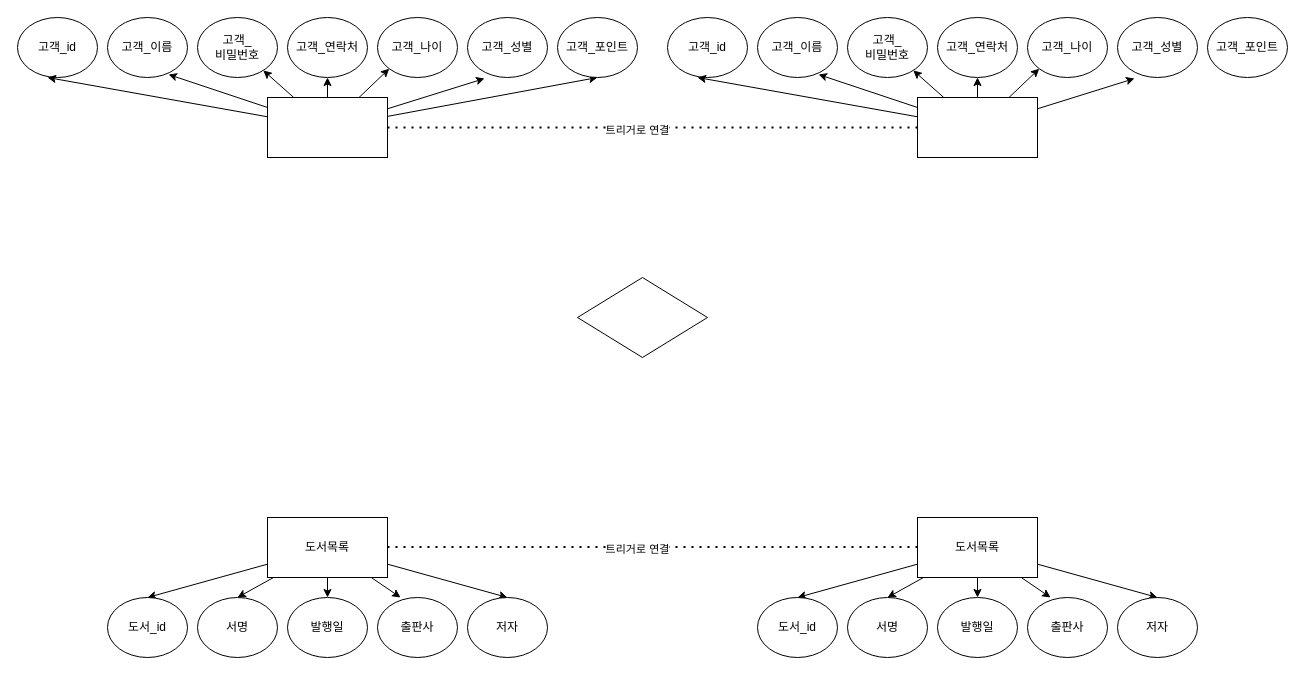
The diagram is 1305 pixels wide and 675 high, and some of its shapes have lost their labels. The shapes that lost their labels are listed below. From the top down, each one's box as (x1, y1, x2, y2) in pixels, then its label:
(266, 96, 388, 158): 고객정보관리
(916, 96, 1038, 158): 고객정보관리(LOG)
(576, 276, 708, 358): 도서대여대장
